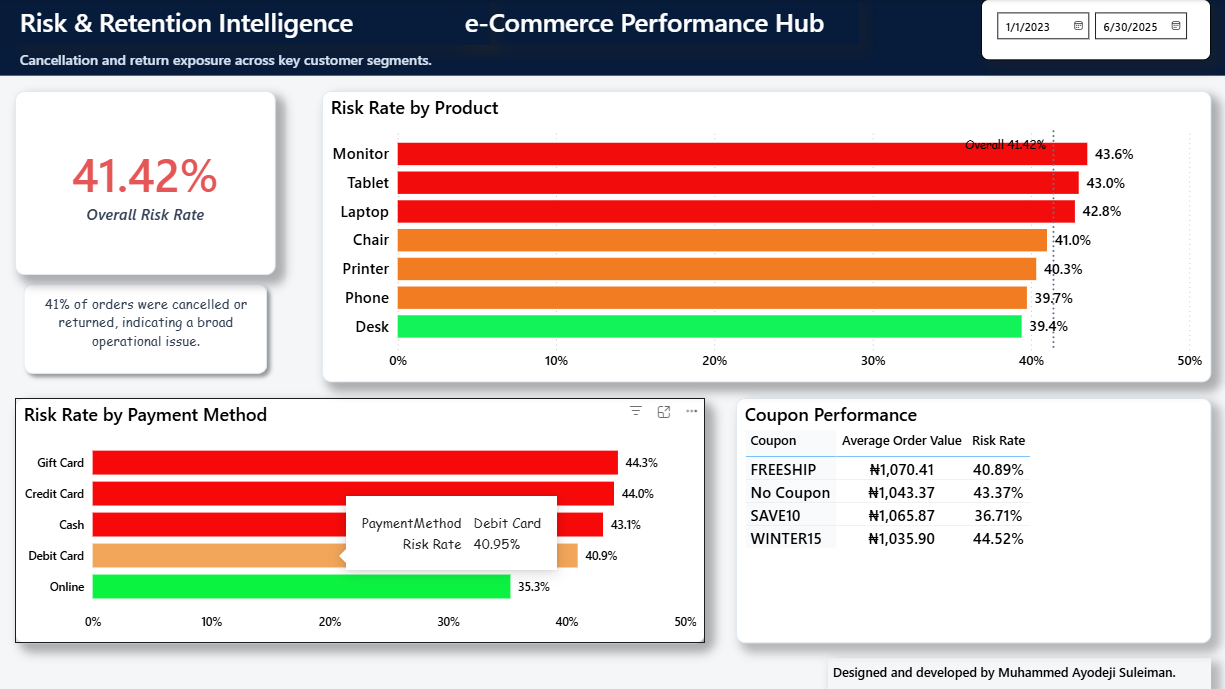

The page's visual inventory and layout, read from the dashboard file:
{"tool":"powerbi","page":{"name":"Page 2","canvas":[1280,720],"ordinal":1},"visuals":[{"type":"shape","box":[16,288,272,112],"z":500},{"type":"shape","box":[0,0,1280,80],"z":1000},{"type":"tableEx","title":"Coupon Performance","fields":{"Values":["CleanedData.CouponCode","CleanedData.Average Order Value","CleanedData.Product Risk Rate %"]},"box":[768,416,496,256],"z":2000},{"type":"clusteredBarChart","title":"Risk Rate by Payment Method","fields":{"Y":["CleanedData.Product Risk Rate %"],"Category":["CleanedData.PaymentMethod"]},"box":[16,416,720,256],"z":3000},{"type":"clusteredBarChart","title":"Risk Rate by Product","fields":{"Category":["CleanedData.Product"],"Y":["CleanedData.Product Risk Rate %"]},"box":[336,96,928,304],"z":4000},{"type":"card","fields":{"Values":["CleanedData.Overall Risk Rate %"]},"box":[16,96,272,192],"z":5000},{"type":"textbox","box":[32,304,240,80],"z":6000},{"type":"textbox","box":[16,0,496,48],"z":7000},{"type":"textbox","box":[16,48,464,32],"z":8000},{"type":"slicer","fields":{"Values":["CleanedData.Date"]},"box":[1024,0,240,64],"z":9000},{"type":"textbox","box":[864,688,400,32],"z":9001},{"type":"textbox","box":[480,0,416,48],"z":9002}]}

Visuals, with their boxes in screenshot pixels (x1, y1, x2, y2), scaled from the page's 1280x720 canvas onto the 1225x689 screenshot:
shape: pyautogui.locateOnScreen(15, 276, 276, 383)
shape: pyautogui.locateOnScreen(0, 0, 1224, 77)
"Coupon Performance" tableEx: pyautogui.locateOnScreen(735, 398, 1210, 643)
"Risk Rate by Payment Method" clusteredBarChart: pyautogui.locateOnScreen(15, 398, 704, 643)
"Risk Rate by Product" clusteredBarChart: pyautogui.locateOnScreen(322, 92, 1210, 383)
card - CleanedData.Overall Risk Rate %: pyautogui.locateOnScreen(15, 92, 276, 276)
textbox: pyautogui.locateOnScreen(31, 291, 260, 367)
textbox: pyautogui.locateOnScreen(15, 0, 490, 46)
textbox: pyautogui.locateOnScreen(15, 46, 459, 77)
slicer - CleanedData.Date: pyautogui.locateOnScreen(980, 0, 1210, 61)
textbox: pyautogui.locateOnScreen(827, 658, 1210, 688)
textbox: pyautogui.locateOnScreen(459, 0, 858, 46)
